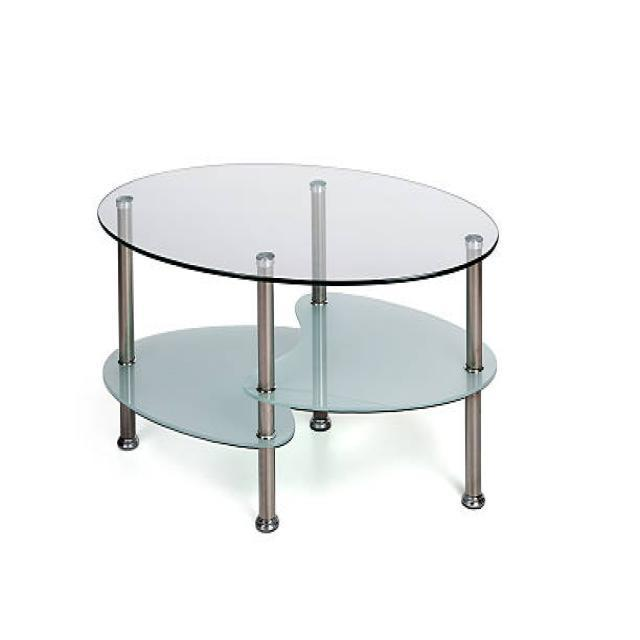table: (96, 160, 499, 532)
